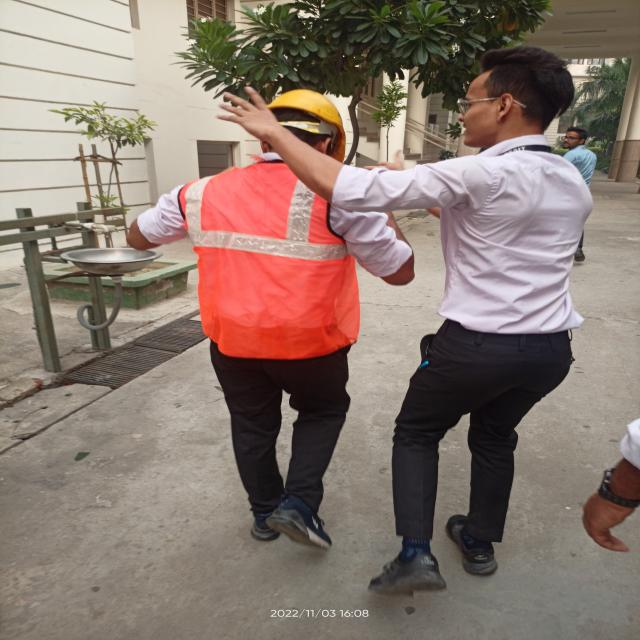safe: (178, 82, 388, 554)
unsafe: (390, 64, 599, 582)
